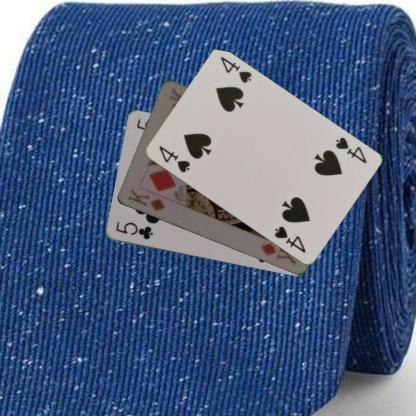4s: (156, 142, 192, 174), (332, 135, 368, 165)
5c: (113, 219, 154, 241)
Kd: (124, 186, 166, 212)
